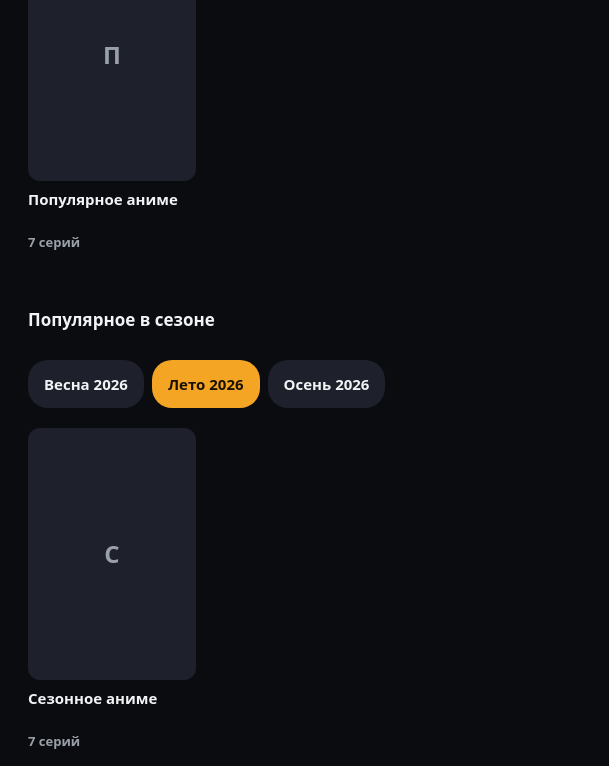
it: HomeScreen › switches seasons from a radio group, retries a failed one and remembers the rest
(page scrolled)
Expected: the radio button labelled "Лето 2026" is checked, [152,360,260,408]
Expected: the text "Сезонное аниме" is shown, [28,688,157,708]
Click the radio button labelled "Осень 2026".
click(327, 384)  # box [268,360,386,408]
(page scrolled)
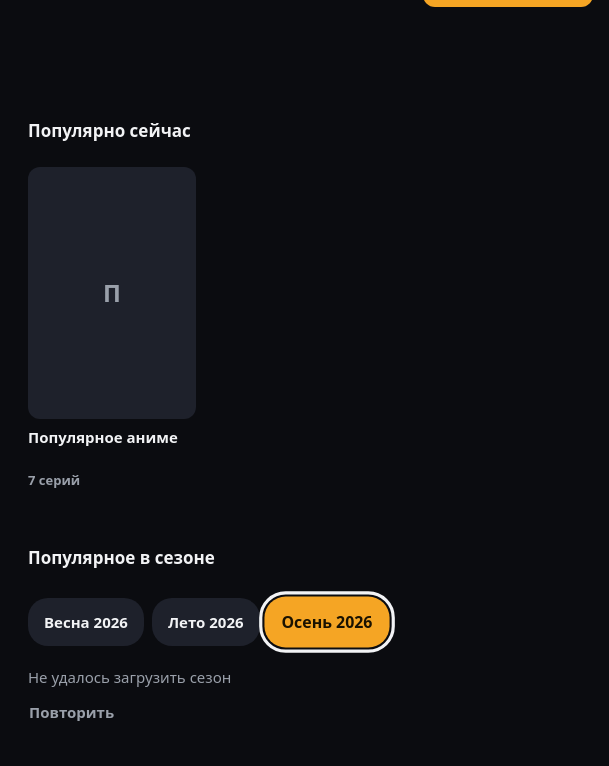
Expected: the radio button labelled "Осень 2026" is checked, [264,597,389,648]
Expected: the text "Не удалось загрузить сезон" is shown, [28,667,231,687]
Click the button "Повторить".
click(72, 712)  # box [16,688,127,736]
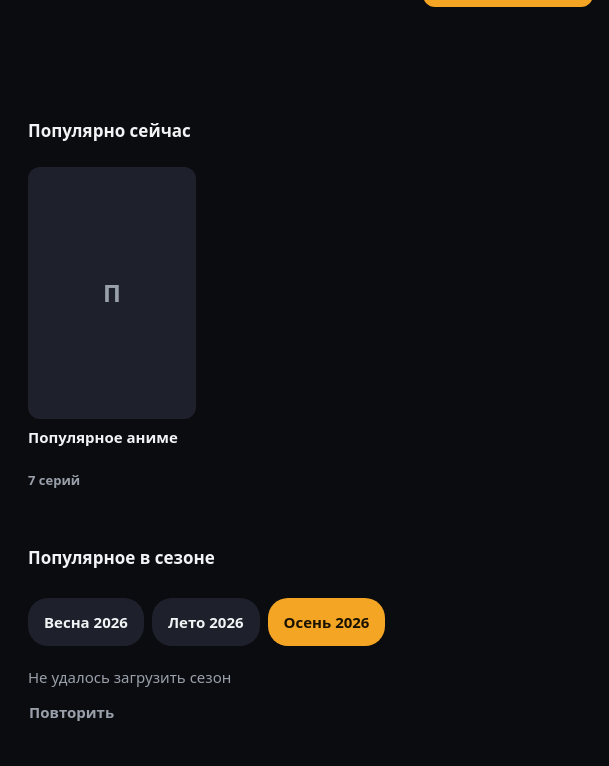
Click the radio button labelled "Лето 2026".
click(206, 622)  # box [152,598,260,646]
(page scrolled)
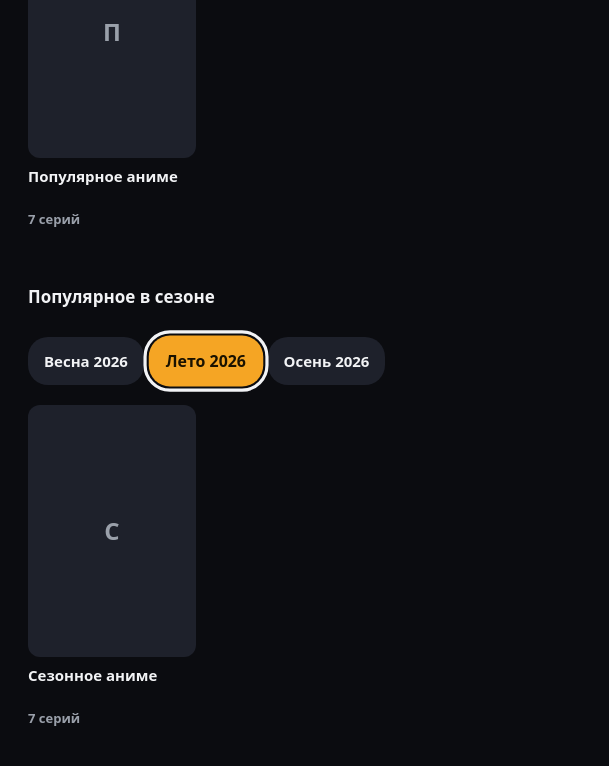
Expected: the text "Сезонное аниме" is shown, [28,665,157,685]
Press Arrowleft
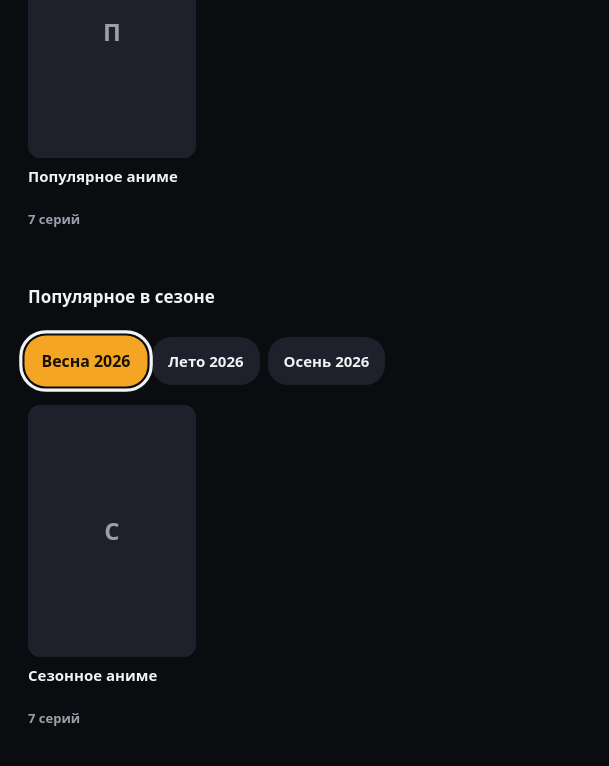
Expected: the radio button labelled "Весна 2026" is checked, [24,336,147,386]
